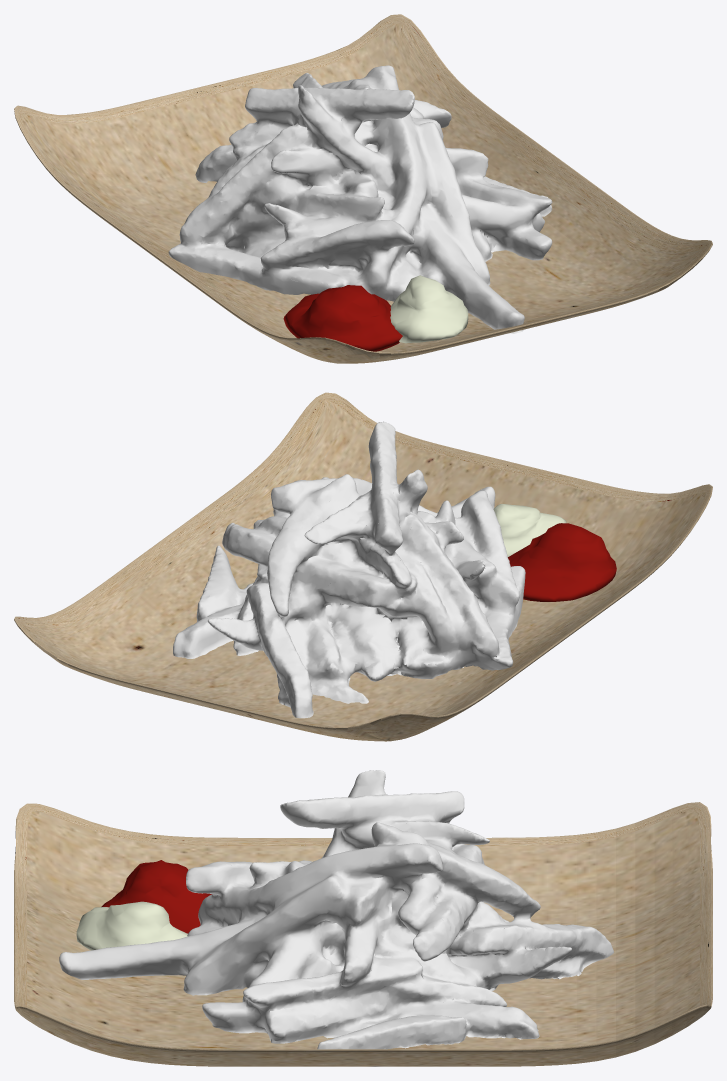
The model's file is fries.fbx.
3 renders of one model, top to bottom at view 1: azimuth 30°, elevation 25°; view 2: azimuth 150°, elevation 25°; view 3: azimuth 270°, elevation 25°, orthographic. The views are drawn at different scales.
Parts seen in each view (by area): view 1: paper plate, fries, ketchup, mayo; view 2: paper plate, fries, ketchup, mayo; view 3: paper plate, fries, mayo, ketchup.
Part boxes in pixels (<box>): paper plate: <box>14,14,712,363</box>; fries: <box>168,65,552,333</box>; ketchup: <box>283,285,402,351</box>; mayo: <box>390,275,468,343</box>; paper plate: <box>14,392,712,741</box>; fries: <box>173,421,525,718</box>; ketchup: <box>508,523,616,601</box>; mayo: <box>493,504,566,556</box>; paper plate: <box>14,802,712,1066</box>; fries: <box>59,770,613,1049</box>; mayo: <box>76,901,187,950</box>; ketchup: <box>101,860,211,933</box>.
Bounding box in the file's own units: 431 × 190 × 600.
Materials: 4 (1 with a texture image).
